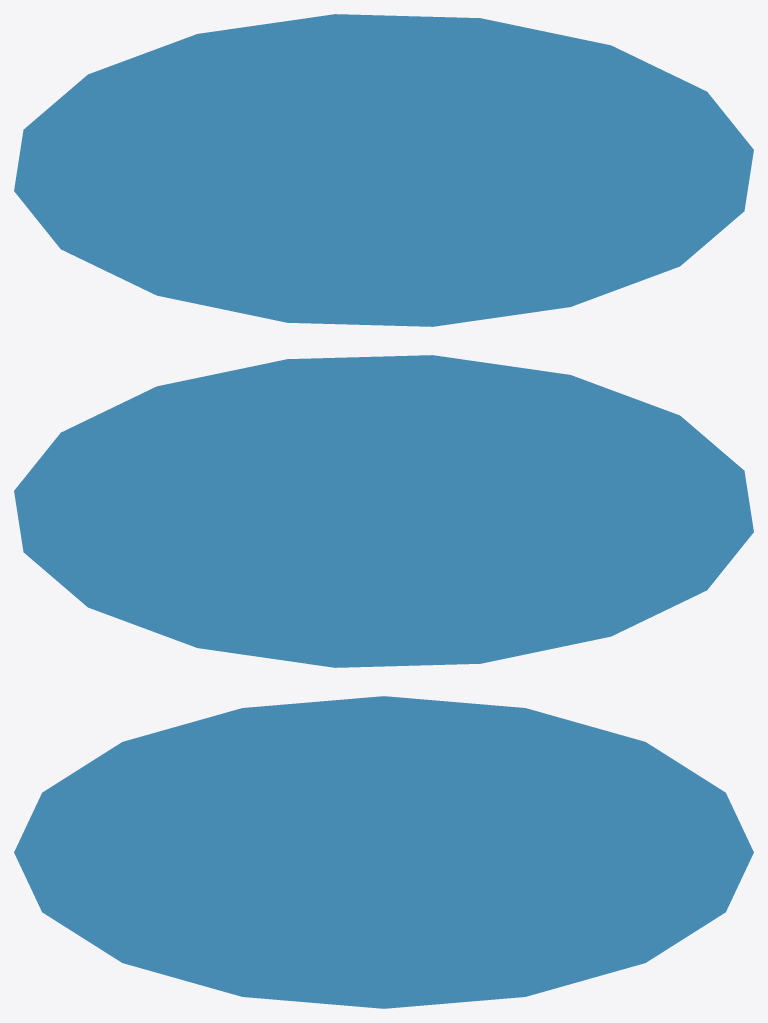
Rendered from WaterFlat.fbx.
3 renders of one model, top to bottom at view 1: azimuth 30°, elevation 25°; view 2: azimuth 150°, elevation 25°; view 3: azimuth 270°, elevation 25°, orthographic.
Visible parts, largest first — view 1: WaterFlat; view 2: WaterFlat; view 3: WaterFlat.
Boxes of the visible parts, <box> form: WaterFlat: <box>14,14,753,326</box>; WaterFlat: <box>14,355,753,667</box>; WaterFlat: <box>14,696,753,1008</box>.
Bounding box in the file's own units: 265 × 0 × 265.
